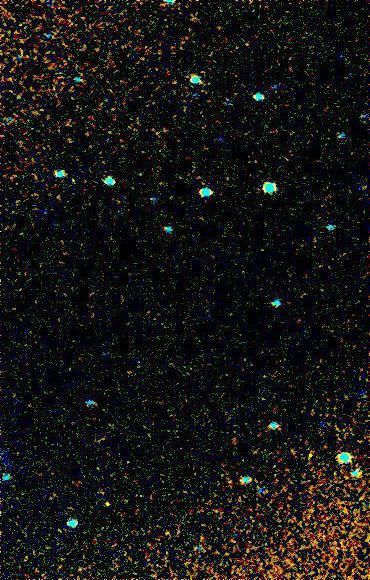star: (94, 488, 124, 518)
